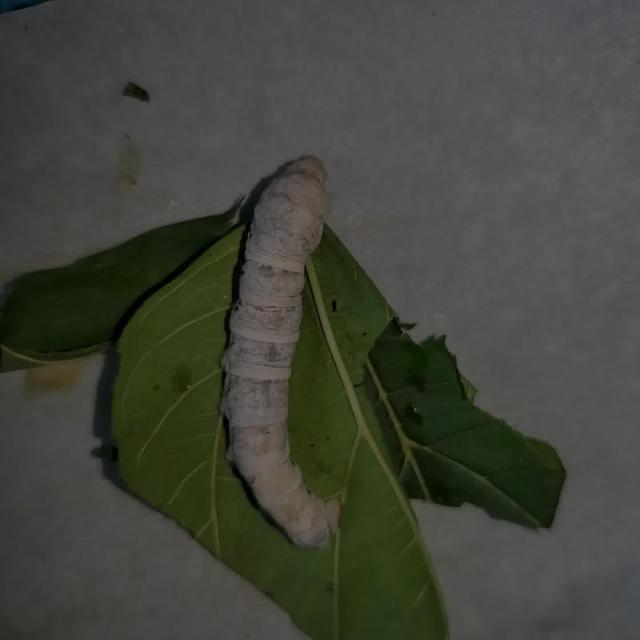Grasserie: (206, 142, 364, 551)
